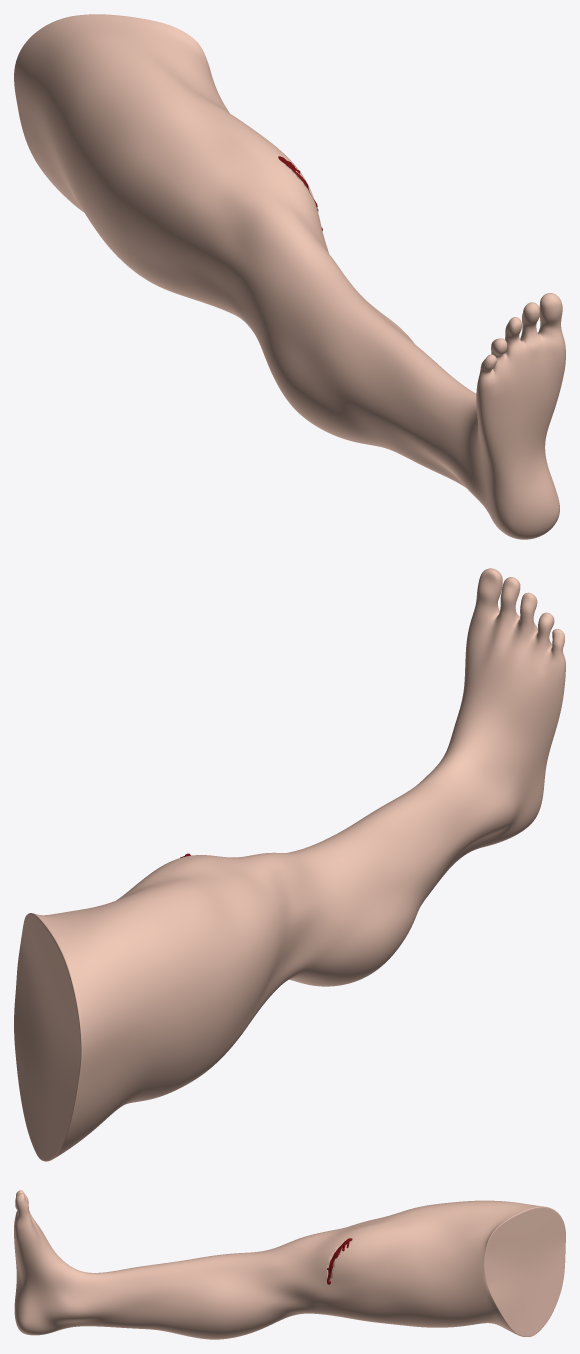
File: ExtremidadInferior.fbx
3 views of the same model, one above another, from view 1: azimuth 30°, elevation 25°; view 2: azimuth 150°, elevation 25°; view 3: azimuth 270°, elevation 25° (orthographic). The views are drawn at different scales.
Parts seen in each view (by area): view 1: 11539_leg_01_V1; view 2: 11539_leg_01_V1; view 3: 11539_leg_01_V1, MetaBola.013.
Boxes of the visible parts, left/top/right/bottom form: 11539_leg_01_V1: left=14, top=14, right=565, bottom=539; 11539_leg_01_V1: left=14, top=568, right=565, bottom=1161; 11539_leg_01_V1: left=14, top=1190, right=565, bottom=1339; MetaBola.013: left=327, top=1238, right=352, bottom=1284.
Size of the model in its own units: 1908 by 2969 by 9898.
